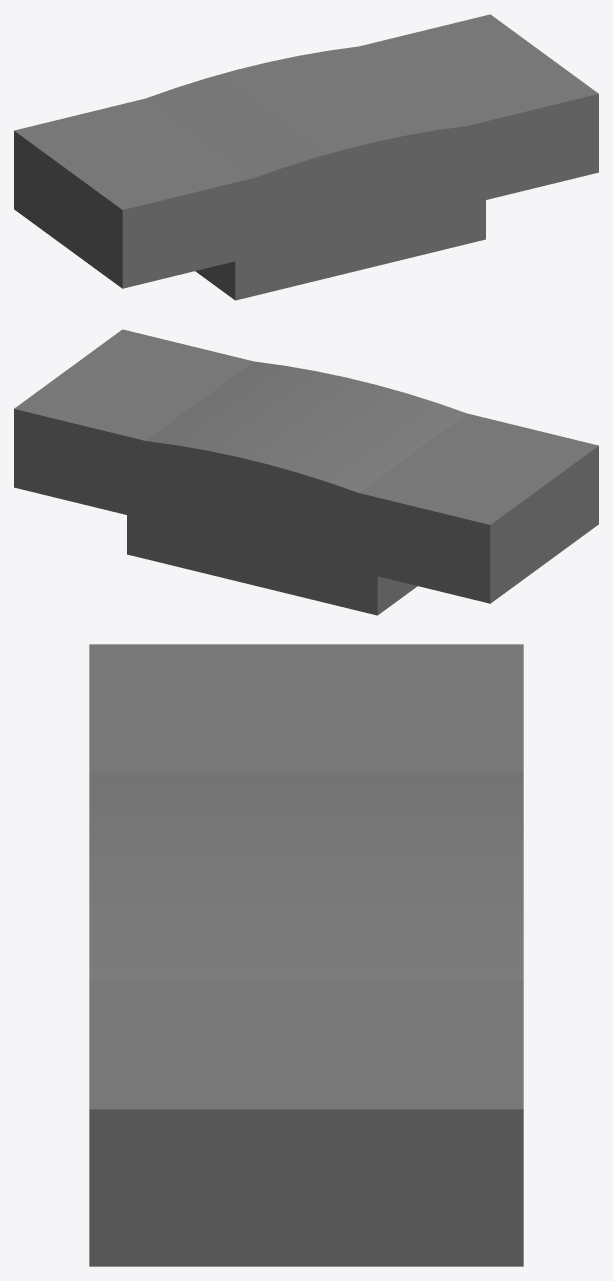
The picture shows the model from 3 angles, top to bottom: view 1: azimuth 30°, elevation 25°; view 2: azimuth 150°, elevation 25°; view 3: azimuth 270°, elevation 25°; orthographic projection. The views are drawn at different scales.
Visible parts, largest first — view 1: mesh_id4, mesh_id5; view 2: mesh_id4, mesh_id5; view 3: mesh_id4, mesh_id5.
Part boxes in pixels (x1,y1,x2,y2): mesh_id4: (14, 14, 598, 300); mesh_id5: (146, 46, 466, 258); mesh_id4: (14, 329, 598, 615); mesh_id5: (146, 361, 466, 573); mesh_id4: (89, 644, 523, 1266); mesh_id5: (89, 772, 523, 980).
Size of the model in its own units: 0.512 by 0.1279 by 0.2021.
2 materials, 2 textured.
